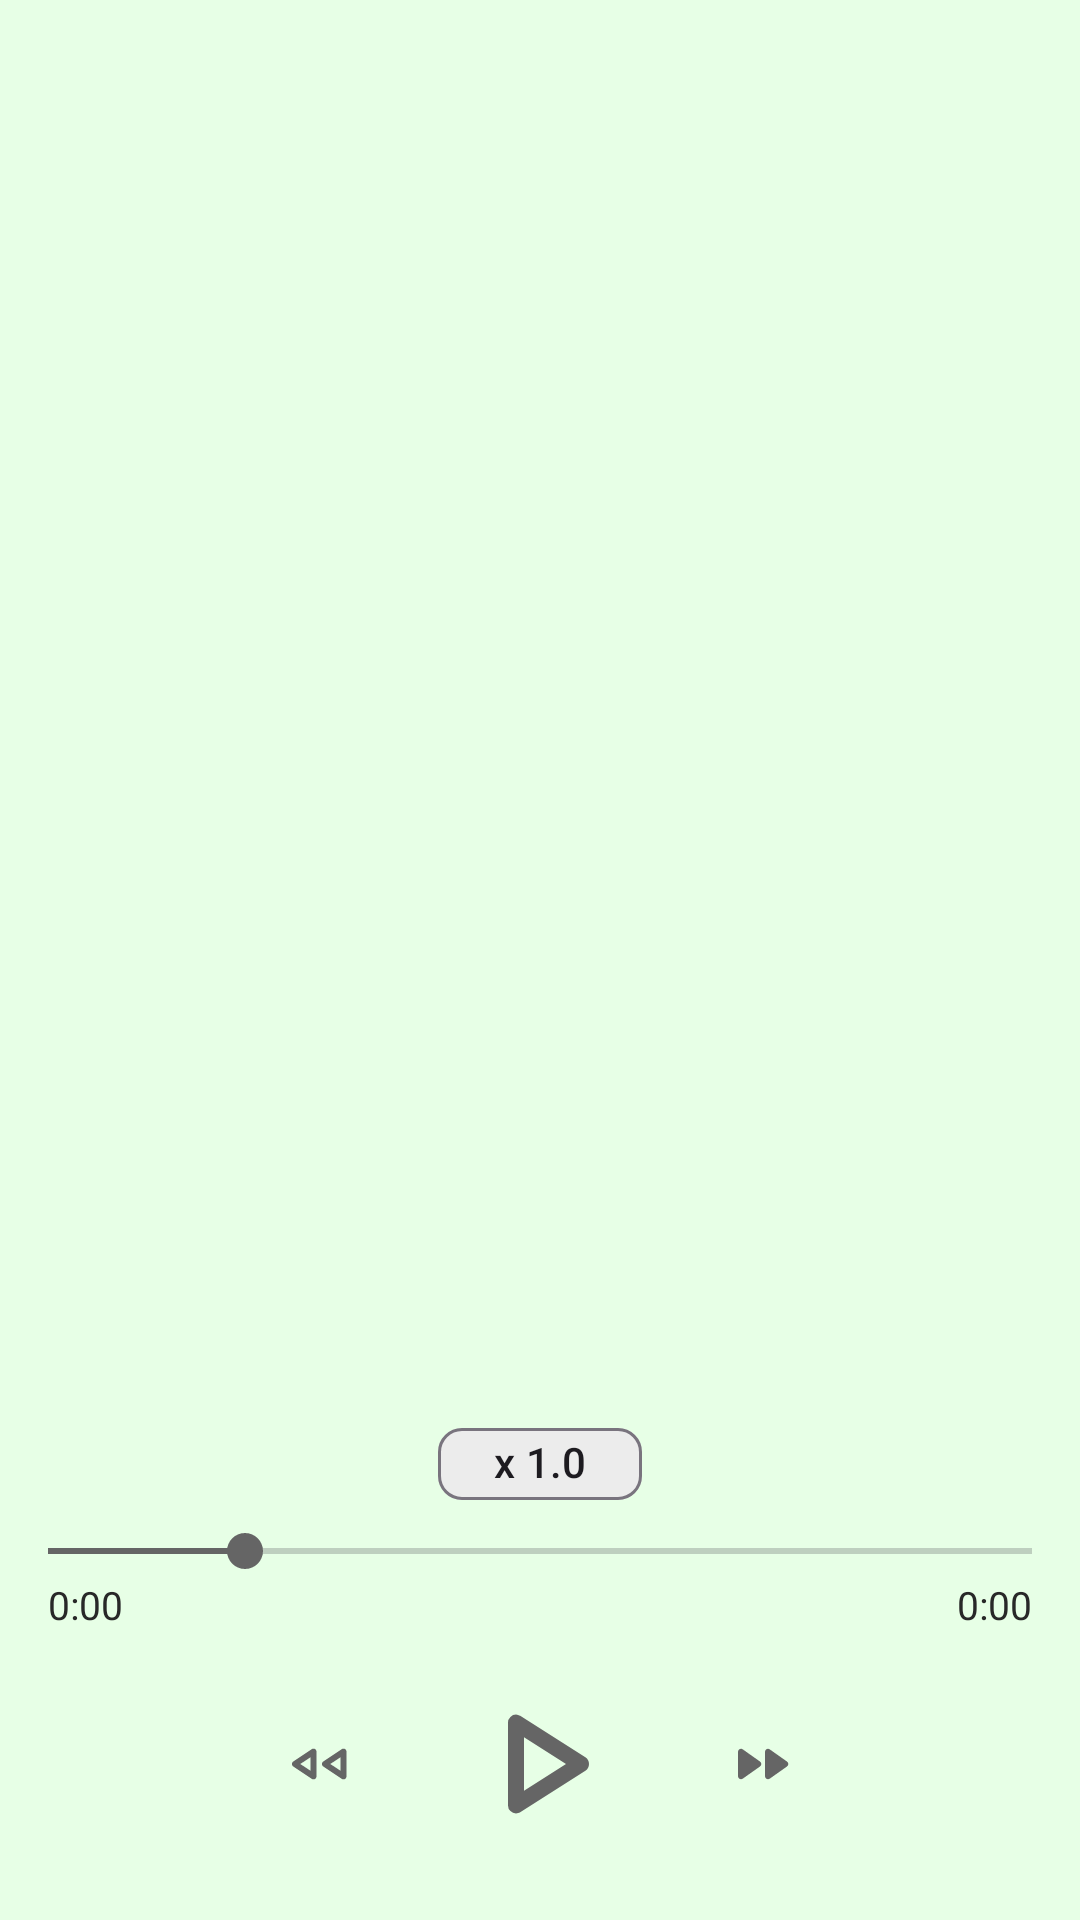

Named icons in this screenshot (1080*1920) and their bounding boxes, (x1, y1, x2, y2):
fast forward: (738, 1748, 789, 1779)
fast rewind: (292, 1748, 347, 1780)
